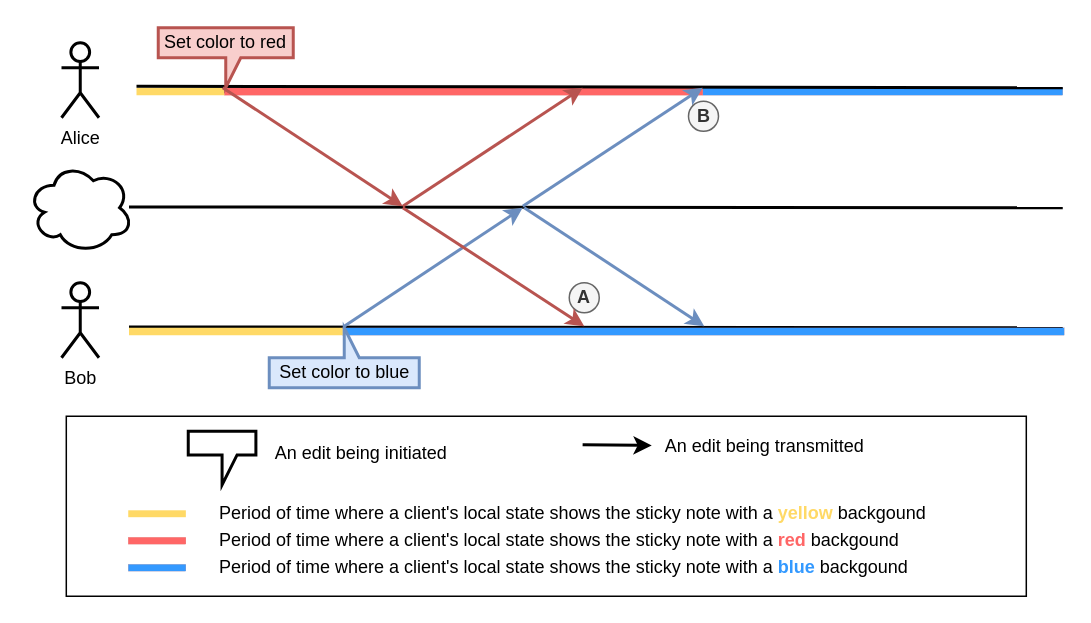
Image size: 1091x623. Some labels were removed from this diagram. The box of each missing label's shape, as (x1, y1, x2, y2) in pixels:
edit: (186, 429, 257, 486)
Service: (26, 160, 134, 254)
